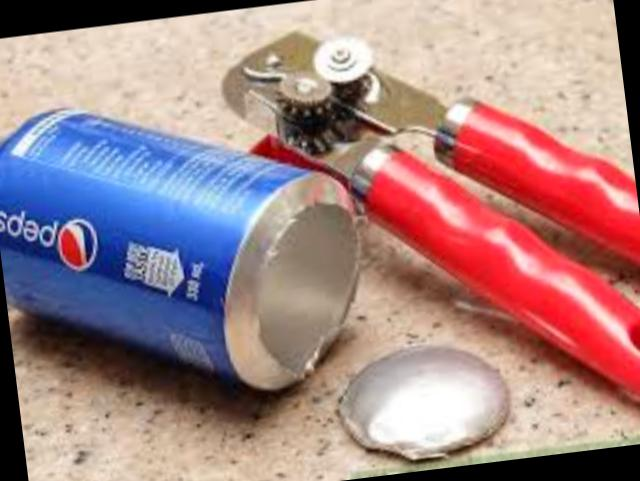metal: (0, 107, 356, 389)
